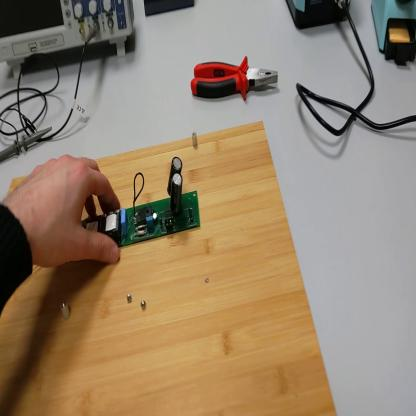hand: (13, 154, 122, 272)
high voltage board: (83, 158, 201, 248)
oscilloscope: (2, 1, 137, 81)
oscilloscope probe tip: (3, 128, 53, 160)
pliers: (184, 52, 280, 103)
welder base: (372, 1, 416, 70)
welder station: (285, 2, 353, 34)
working area: (2, 121, 338, 414)
